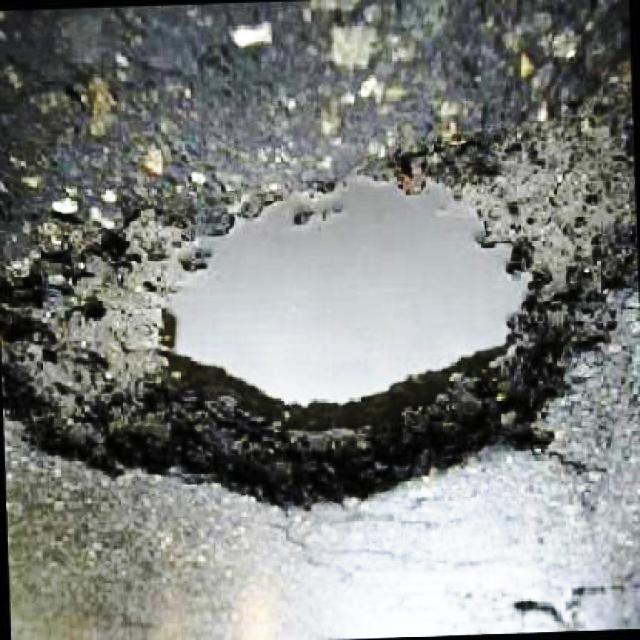pothole: (0, 106, 637, 509)
